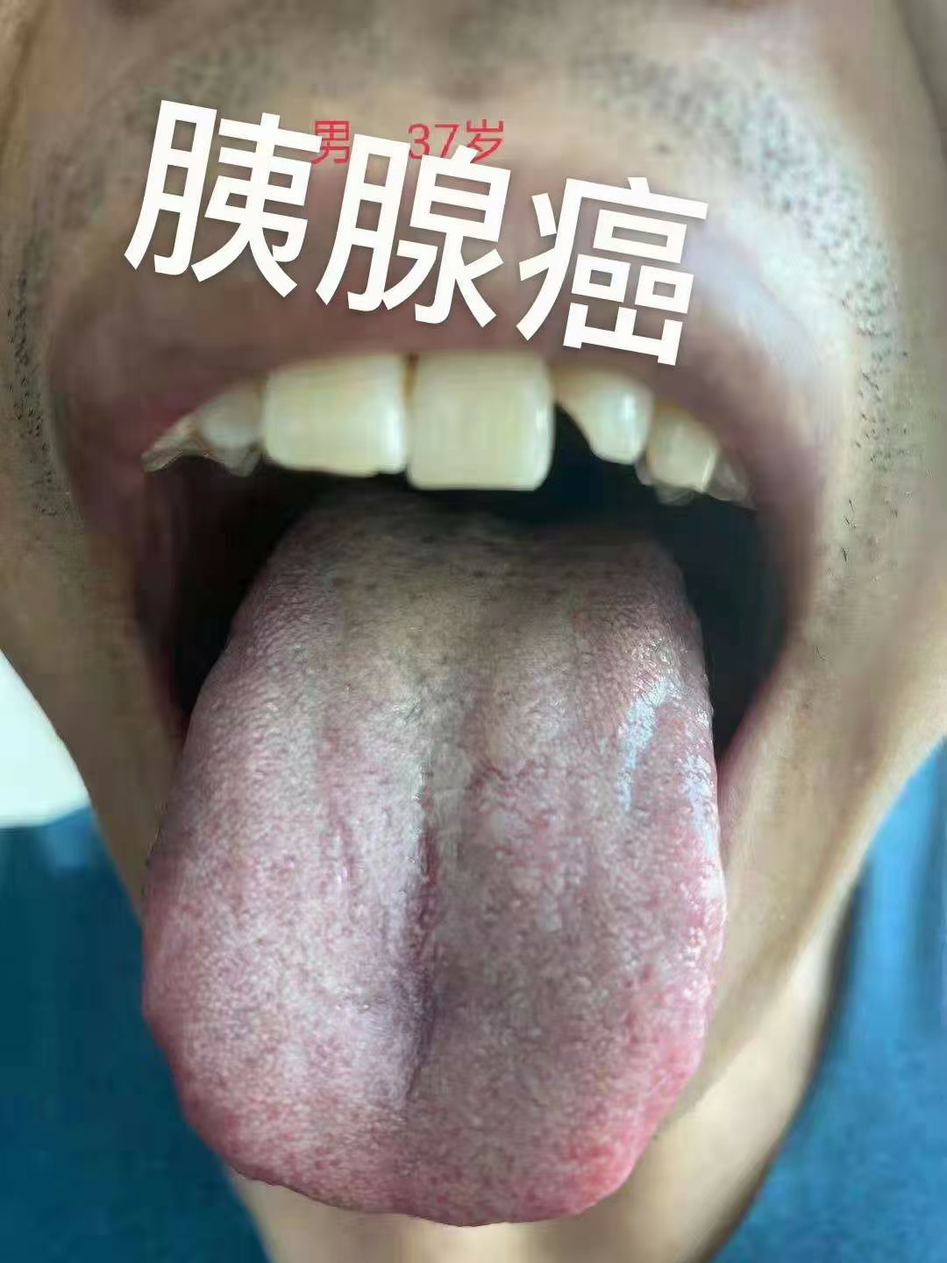baitaishe: (145, 503, 726, 1230)
liewenshe: (404, 818, 454, 1097)
